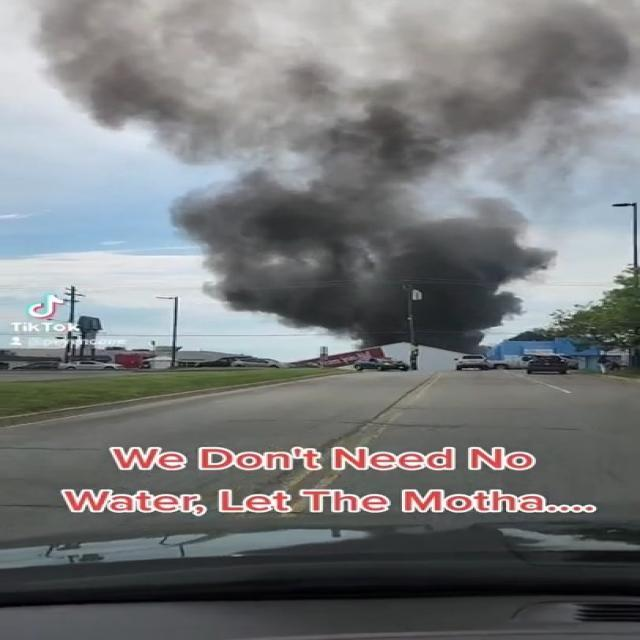Smoke: (178, 186, 532, 344)
